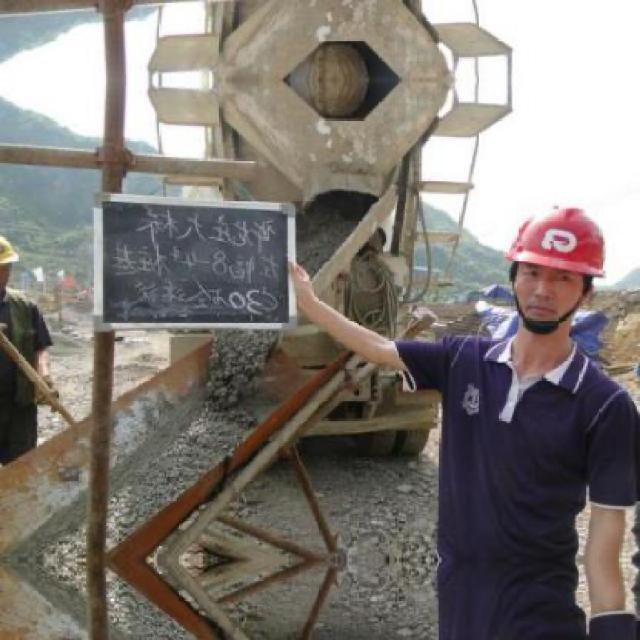helmet: (496, 186, 616, 340)
